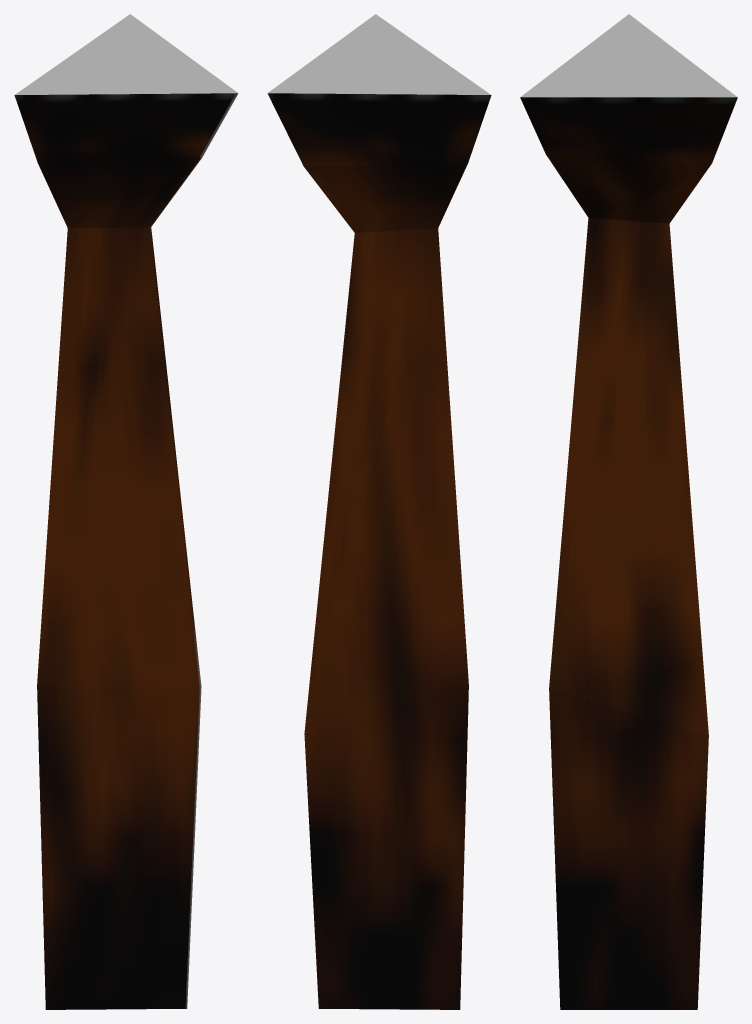
Rendered from Säule_Ionisch_1305.glb.
The picture shows the model from 3 angles, left to right: view 1: azimuth 30°, elevation 25°; view 2: azimuth 150°, elevation 25°; view 3: azimuth 270°, elevation 25°; orthographic projection.
Visible parts, largest first — view 1: pCylinderShape102, polySurfaceShape1076; view 2: pCylinderShape102, polySurfaceShape1076; view 3: pCylinderShape102, polySurfaceShape1076.
Part boxes in pixels (left/top/right/bottom): pCylinderShape102: left=14, top=93, right=238, bottom=1009; polySurfaceShape1076: left=15, top=14, right=237, bottom=94; pCylinderShape102: left=267, top=93, right=491, bottom=1009; polySurfaceShape1076: left=268, top=14, right=490, bottom=94; pCylinderShape102: left=520, top=97, right=737, bottom=1009; polySurfaceShape1076: left=520, top=14, right=737, bottom=97.
Bounding box in the file's own units: 0.0674 × 0.3495 × 0.0744.
2 materials, 1 textured.
